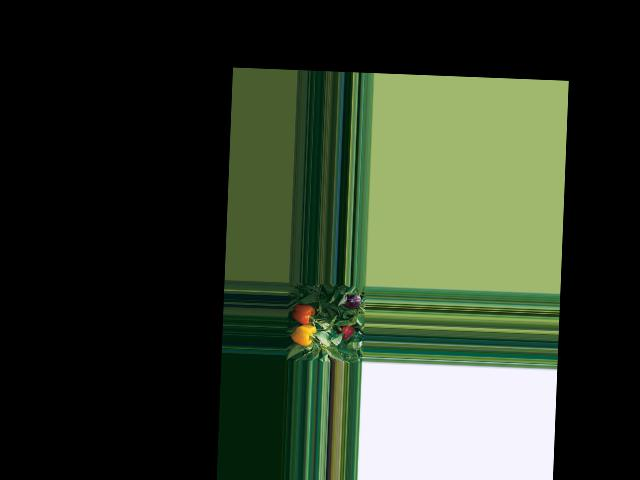bell_pepper: (291, 319, 317, 346)
